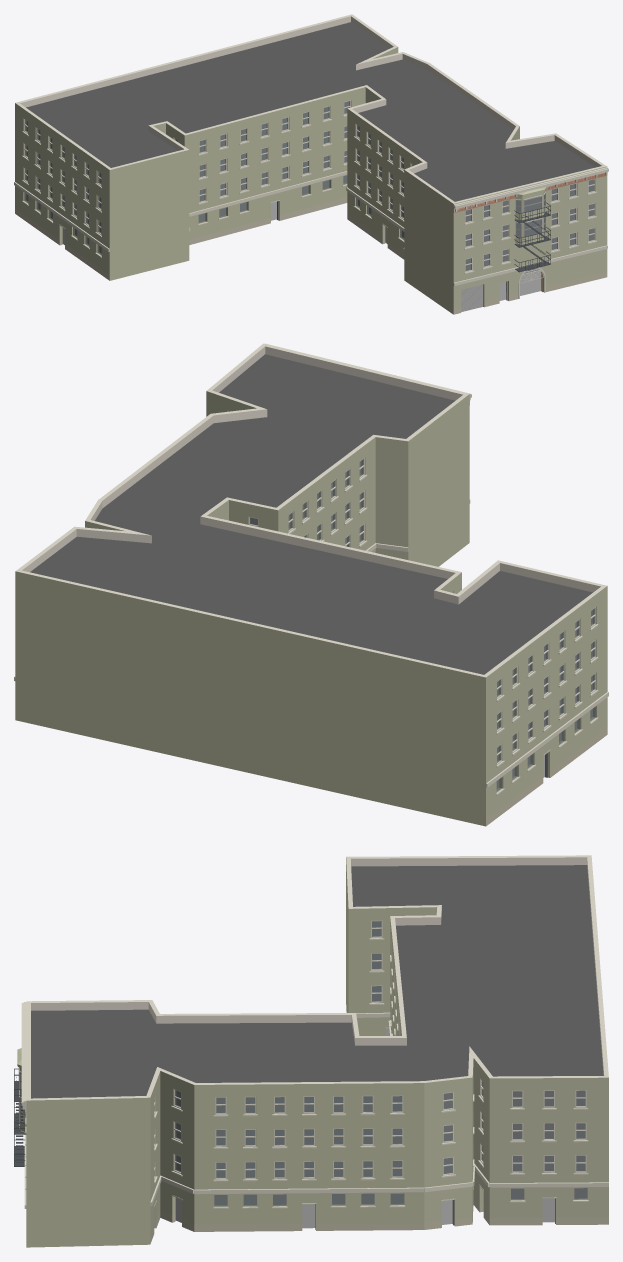
File: exterior.glb
3 views of the same model, one above another, from view 1: azimuth 30°, elevation 25°; view 2: azimuth 150°, elevation 25°; view 3: azimuth 270°, elevation 25° (orthographic). The views are drawn at different scales.
Visible parts, largest first — view 1: shell, roof, glazing, trim, shadow-proxy, frames, fire-escape, bay-glazing-hyb, storefront, bay-windows-hyb, front-dressing-r4; view 2: shell, roof, glazing, trim, frames, shadow-proxy; view 3: shell, roof, glazing, shadow-proxy, trim, frames, fire-escape.
Boxes of the visible parts, <box> form: shell: <box>15,14,607,314</box>; roof: <box>26,22,595,201</box>; glazing: <box>24,101,594,291</box>; trim: <box>14,115,608,285</box>; shadow-proxy: <box>26,101,593,300</box>; frames: <box>24,100,595,272</box>; fire-escape: <box>514,202,550,272</box>; bay-glazing-hyb: <box>515,192,545,238</box>; storefront: <box>59,200,542,311</box>; bay-windows-hyb: <box>515,187,546,244</box>; front-dressing-r4: <box>454,173,606,212</box>; shell: <box>15,343,607,826</box>; roof: <box>30,354,592,674</box>; glazing: <box>250,459,595,791</box>; trim: <box>14,343,608,795</box>; frames: <box>227,411,595,764</box>; shadow-proxy: <box>250,461,592,788</box>; shell: <box>26,855,608,1247</box>; roof: <box>31,865,603,1098</box>; glazing: <box>175,921,587,1206</box>; shadow-proxy: <box>175,921,587,1228</box>; trim: <box>21,938,608,1208</box>; frames: <box>154,920,586,1179</box>; fire-escape: <box>14,1068,25,1166</box>.
Size of the model in its own units: 43.04 by 12 by 44.02.
